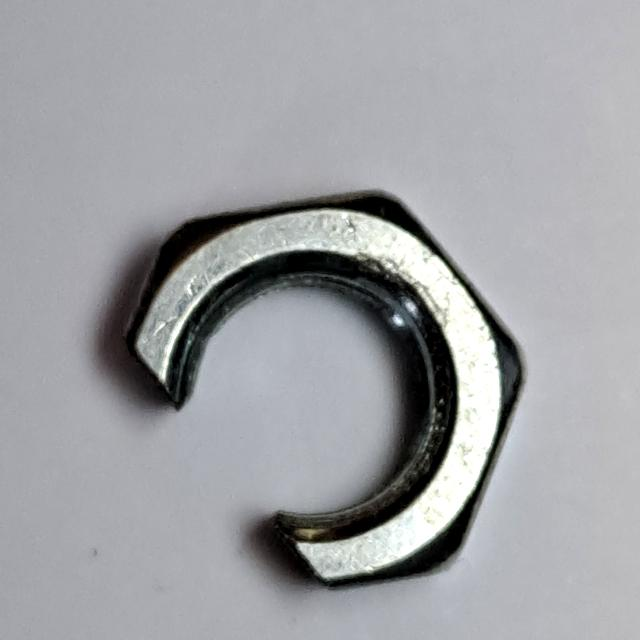Fracture: (109, 166, 541, 595)
